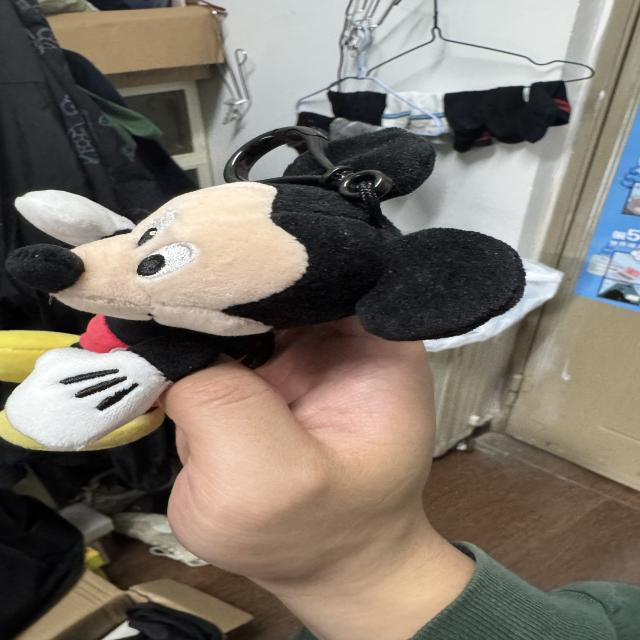mickey: (6, 128, 524, 450)
